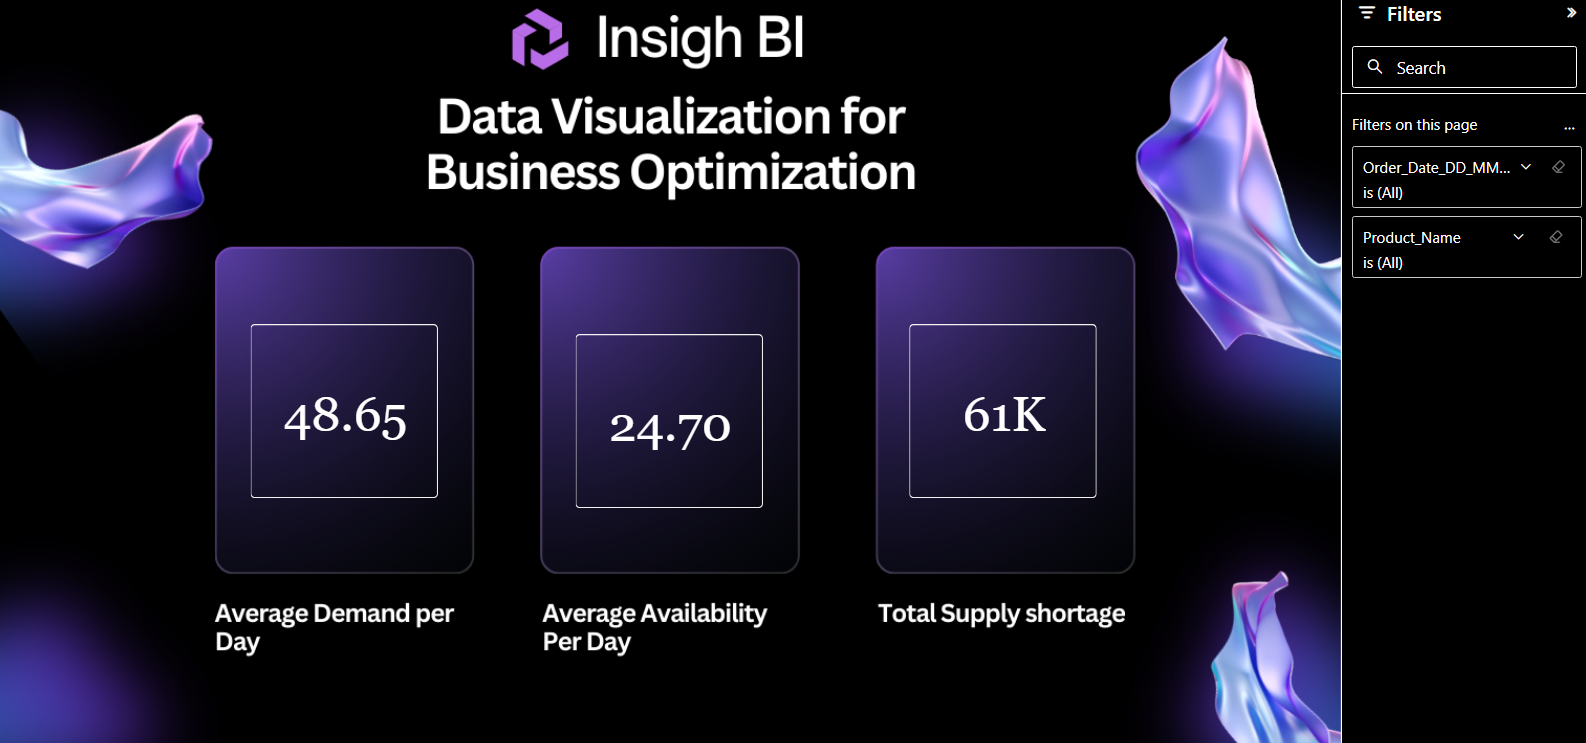

The dashboard page shown, as its layout file describes it:
{"tool":"powerbi","page":{"name":"Page 1","canvas":[1280,720],"ordinal":0},"visuals":[{"type":"cardVisual","fields":{"Data":["Measure Table 1.Average Demand Per Day"]},"box":[223.4,293.6,213.3,200.8],"z":0},{"type":"cardVisual","fields":{"Data":["Measure Table 1.Total Supply Shortage"]},"box":[851.2,293.5,213.6,200.6],"z":1000},{"type":"cardVisual","fields":{"Data":["Measure Table 1.Average Availability Per Day"]},"box":[533.2,303.3,213.6,200.6],"z":2000}]}

Visuals, with their boxes on the page's 1280x720 design canvas (x1, y1, x2, y2). These are canvas units, not pixel positions in the 1586x743 screenshot, which may show the page scaled, cropped or inside an application window:
cardVisual - Measure Table 1.Average Demand Per Day: crop(223, 294, 437, 494)
cardVisual - Measure Table 1.Total Supply Shortage: crop(851, 294, 1065, 494)
cardVisual - Measure Table 1.Average Availability Per Day: crop(533, 303, 747, 504)
